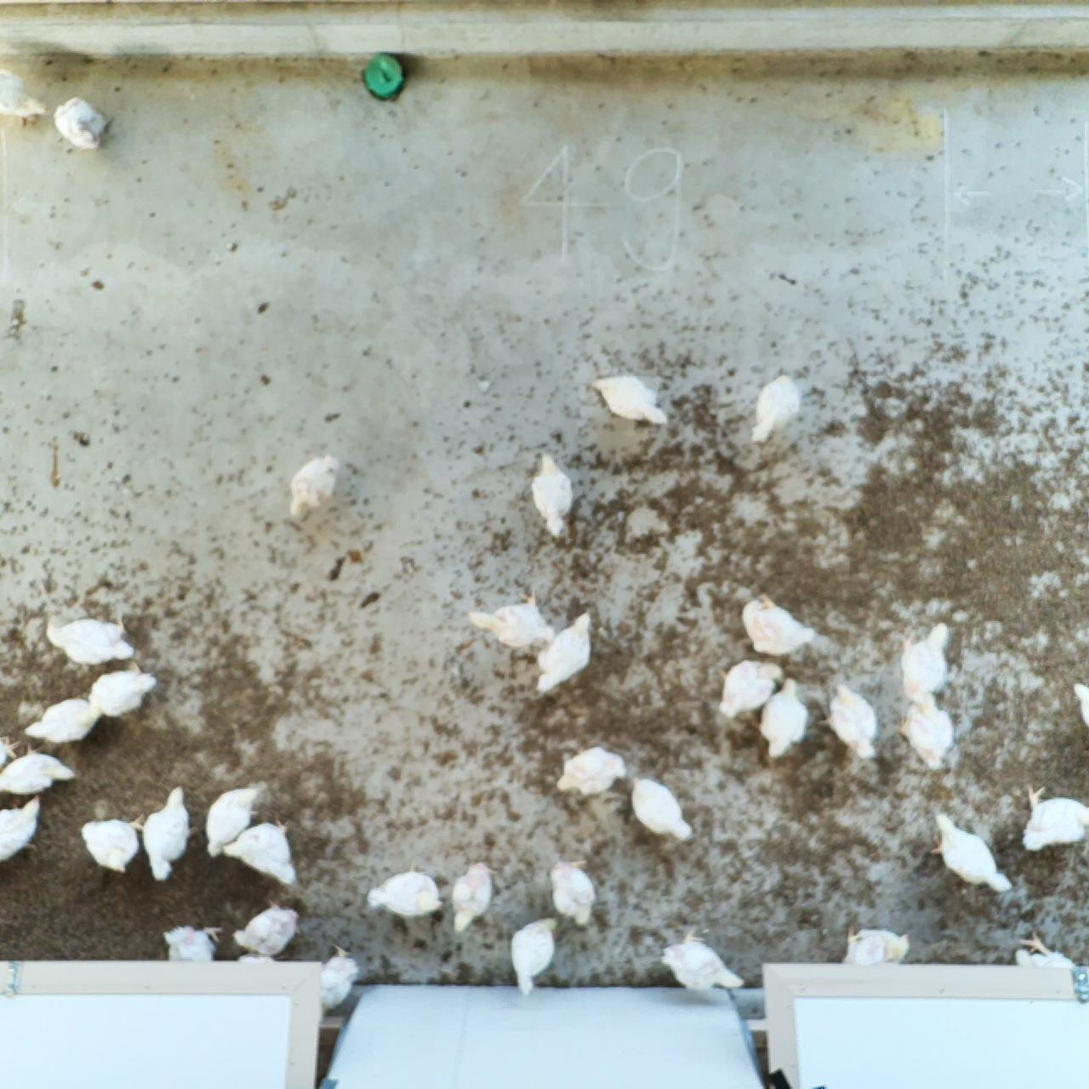chicken: (929, 810, 1016, 895), (657, 921, 748, 994), (140, 783, 199, 883), (220, 816, 301, 888), (467, 587, 556, 650), (535, 607, 597, 696), (748, 676, 812, 760), (740, 591, 819, 659), (818, 679, 881, 762), (897, 692, 959, 774), (202, 784, 265, 862), (363, 860, 446, 919), (45, 613, 138, 665), (627, 774, 696, 843), (1020, 783, 1089, 852), (83, 660, 158, 722), (587, 372, 671, 427), (507, 915, 562, 997), (899, 619, 954, 701), (79, 810, 147, 875), (717, 659, 786, 722), (231, 898, 305, 956), (553, 742, 628, 799), (0, 744, 79, 797), (529, 451, 577, 537), (288, 452, 344, 525), (23, 695, 105, 744), (51, 93, 116, 154), (448, 860, 500, 936), (749, 370, 802, 444), (314, 942, 363, 1022), (548, 857, 602, 927), (0, 66, 55, 133), (841, 921, 913, 967), (159, 922, 225, 971), (0, 792, 44, 864), (1012, 928, 1079, 969), (1070, 681, 1089, 733), (0, 734, 23, 772), (234, 950, 281, 964)
